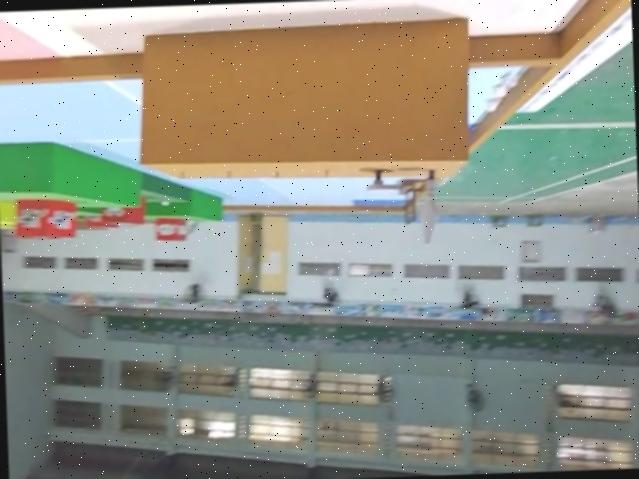Hand: (365, 166, 398, 194)
Sph: (418, 167, 443, 247)
